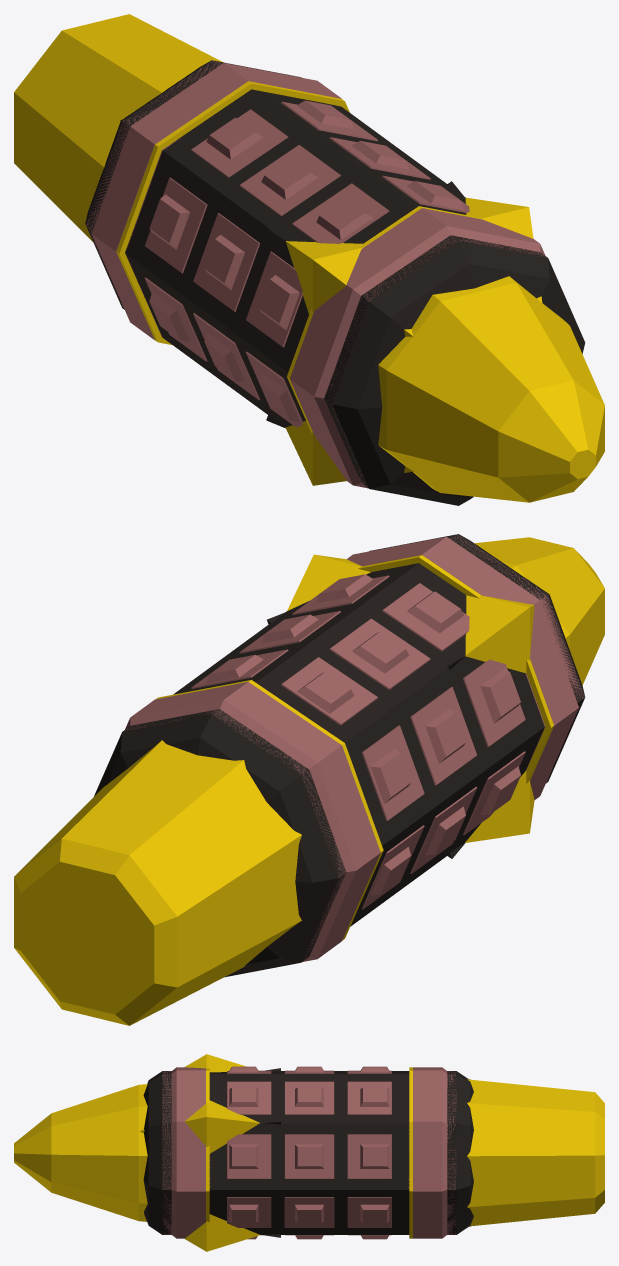
File: projectiles.fbx
The picture shows the model from 3 angles, top to bottom: view 1: azimuth 30°, elevation 25°; view 2: azimuth 150°, elevation 25°; view 3: azimuth 270°, elevation 25°; orthographic projection. The views are drawn at different scales.
Visible parts, largest first — view 1: bullet03, grenade, grenade_cluster, grenade_cluster2, bomb, grenade2; view 2: bullet03, grenade, grenade_cluster, grenade_cluster2, bomb, grenade2; view 3: bullet03, grenade, grenade_cluster, grenade_cluster2, bomb, grenade2.
Part boxes in pixels (box(x1,y1,x2,y2)): bullet03: box(14, 14, 604, 502); grenade: box(85, 60, 585, 505); grenade_cluster: box(91, 63, 545, 488); grenade_cluster2: box(86, 61, 546, 487); bomb: box(285, 197, 542, 485); grenade2: box(116, 81, 479, 432); bullet03: box(14, 537, 604, 1025); grenade: box(94, 534, 584, 977); grenade_cluster: box(125, 536, 578, 961); grenade_cluster2: box(124, 534, 584, 961); bomb: box(287, 554, 534, 842); grenade2: box(156, 555, 553, 940); bullet03: box(14, 1079, 604, 1226); grenade: box(143, 1071, 473, 1234); grenade_cluster: box(171, 1066, 447, 1239); grenade_cluster2: box(162, 1070, 456, 1235); bomb: box(139, 1054, 259, 1251); grenade2: box(206, 1067, 412, 1238).
Size of the model in its own units: 21.1 by 21.1 by 68.38.
